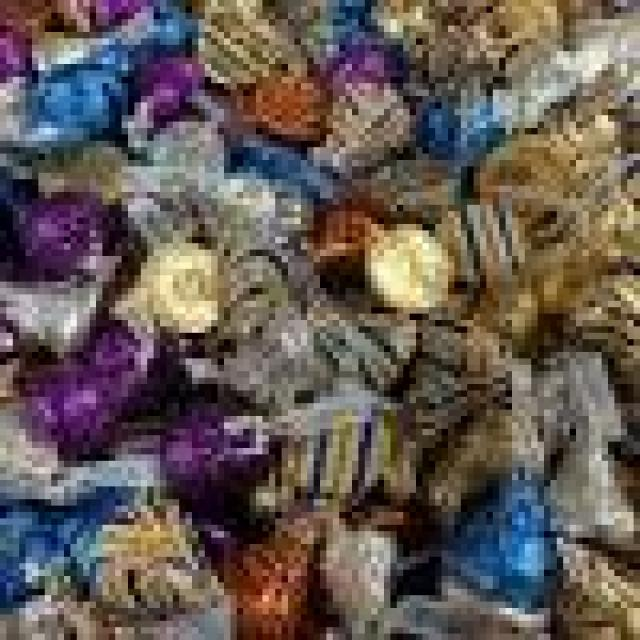kisses: (539, 422, 640, 544), (0, 274, 116, 372), (318, 520, 402, 638)
